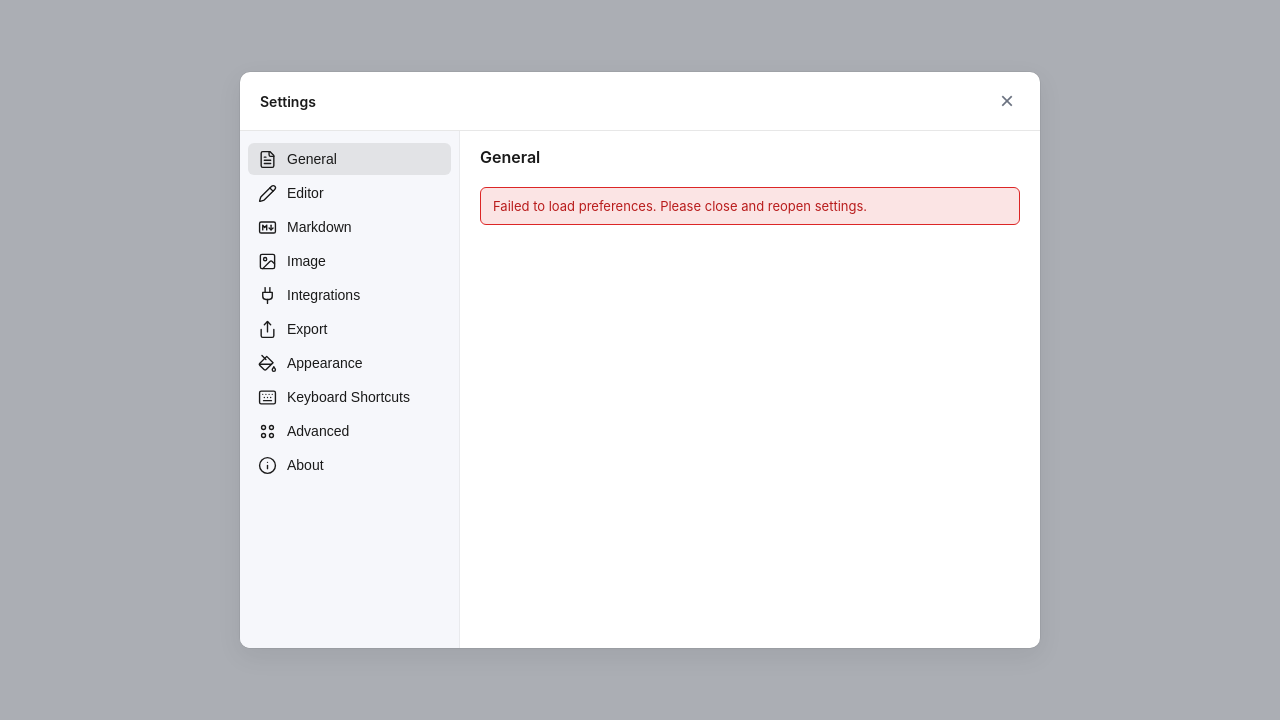
Test: D25-1 corrupt config: the switch mirrors the server and one note is shown › config failed + configured enabled (disabled): lock paragraph kept, no unreadable note, switch mirrors phase
The image size is (1280, 720).
Click the button "Integrations": (350, 295) [248,279,451,311]
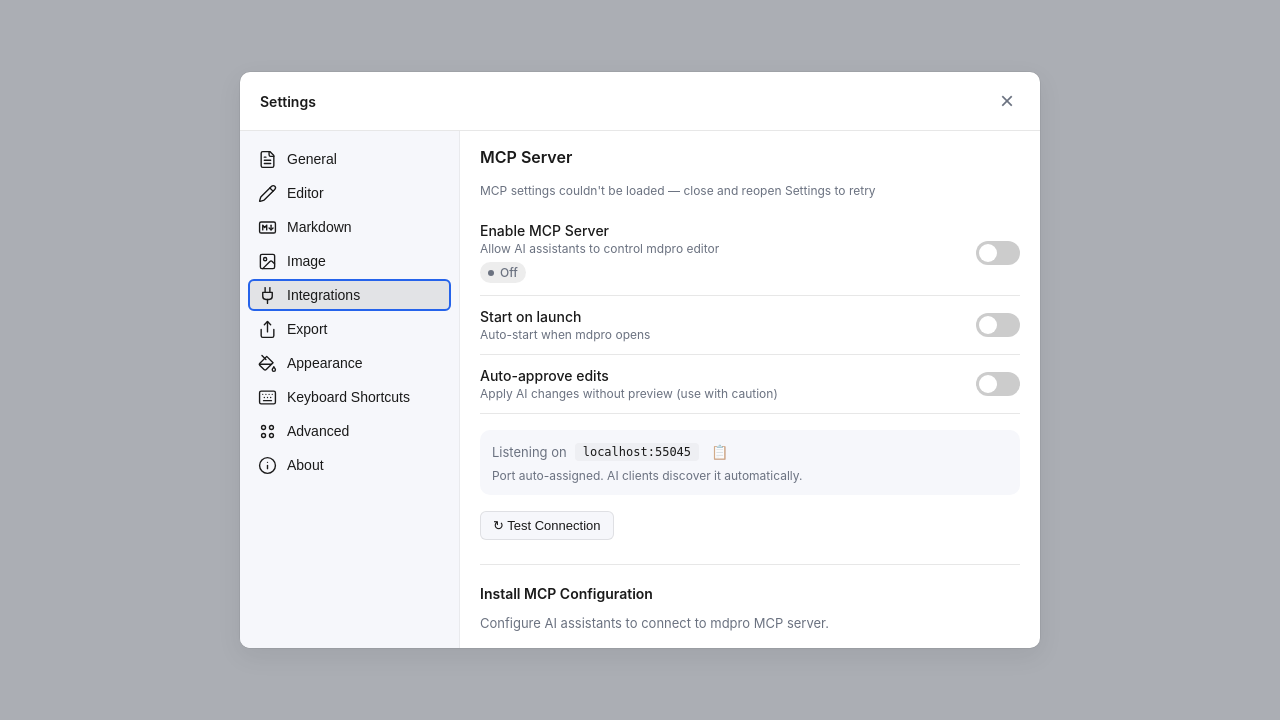
Expected: the text "MCP settings couldn't be loaded" is shown, [480,183,876,198]
Expected: the message reads "Off", [500,265,518,280]
Expected: the switch labelled "Enable MCP Server" is not checked, [976,240,1020,264]
